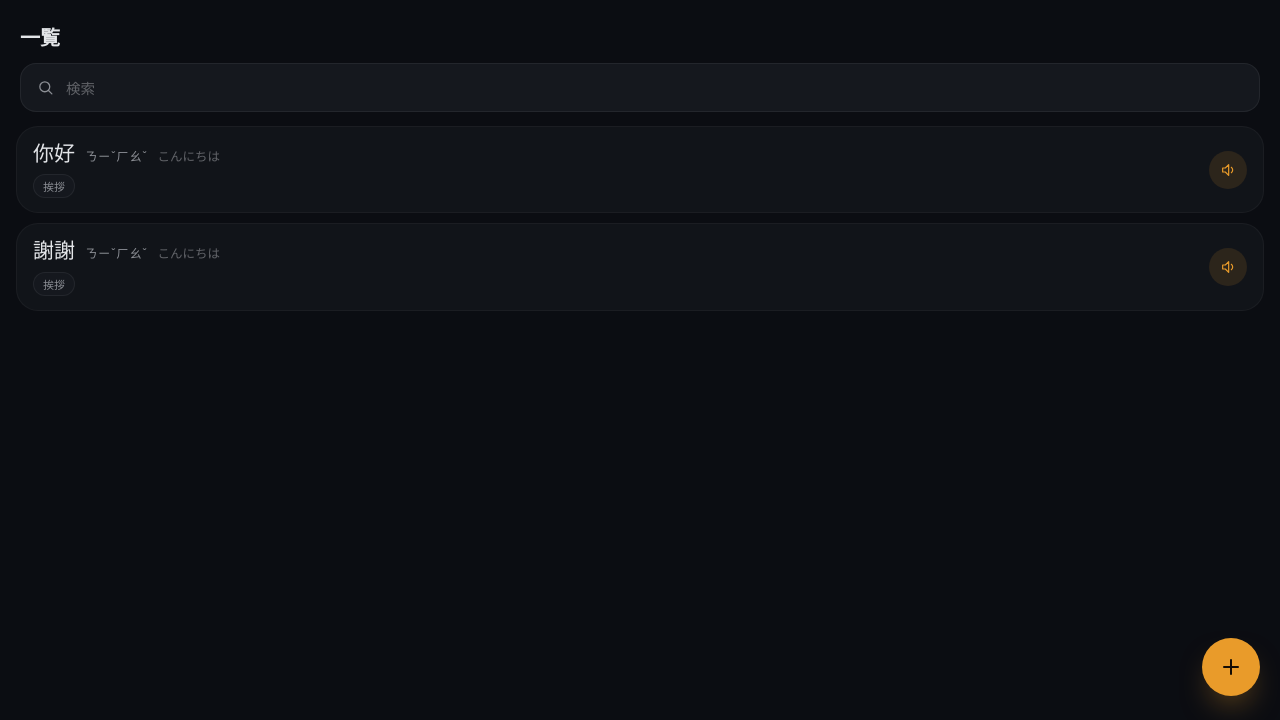
Test: lists stored cards and filters by search text
This screenshot has width=1280, height=720.
Expected: the text "你好" is shown, [33,141,75,168]
Expected: the text "謝謝" is shown, [33,238,75,266]
Type "謝" into the field with placeholder "検索".
click(654, 88); type("謝")  # box [64,76,1243,99]
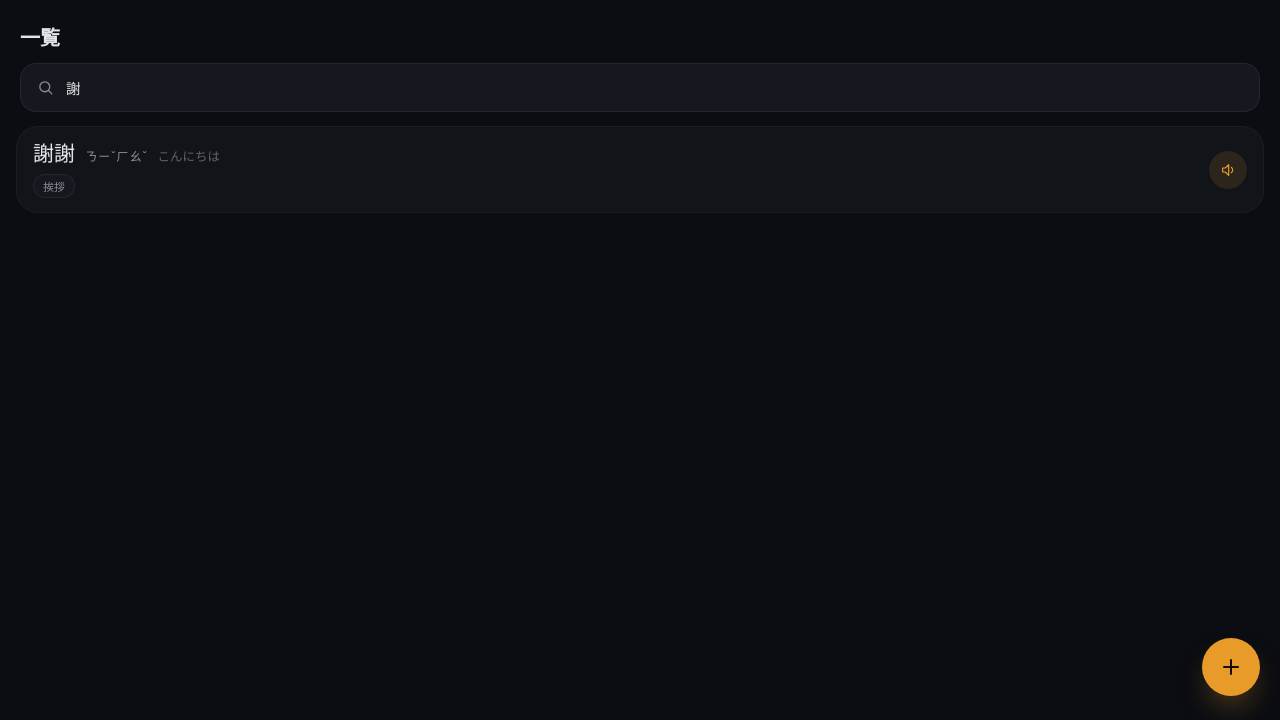
Expected: the text "謝謝" is shown, [33,141,75,168]
Expected: the text "你好" is gone
